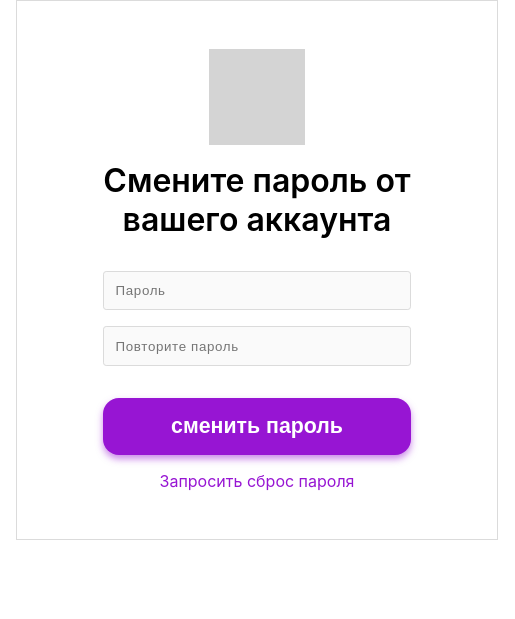
ResetPasswordComponent › reports when password too easy
This screenshot has width=515, height=619.
Type "Hunter2" into the password field with placeholder "Пароль". click: (257, 291)
box: [103,271,411,310]
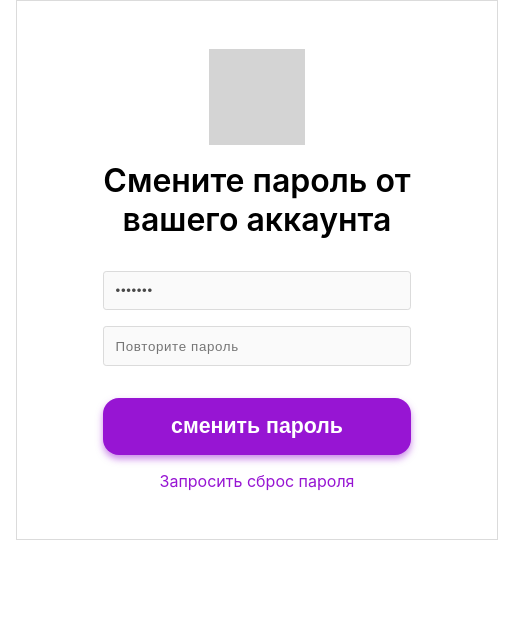
Type "Hunter2" into the password field with placeholder "Повторите пароль". click: (257, 346)
box: [103,326,411,366]
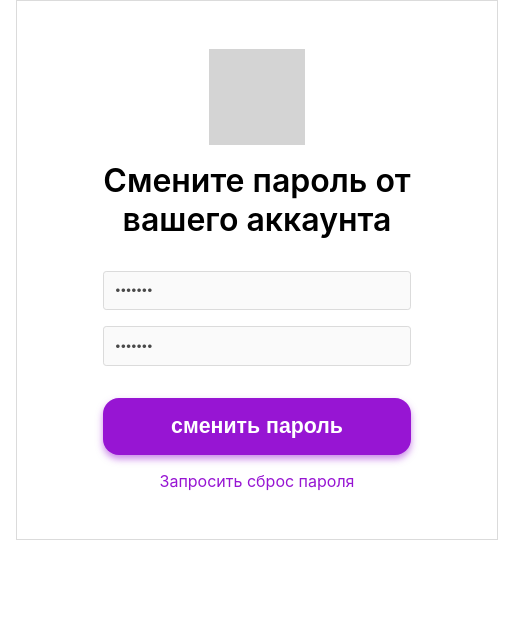
Click the button "сменить пароль". click: click(257, 426)
box: [103,398,411,455]
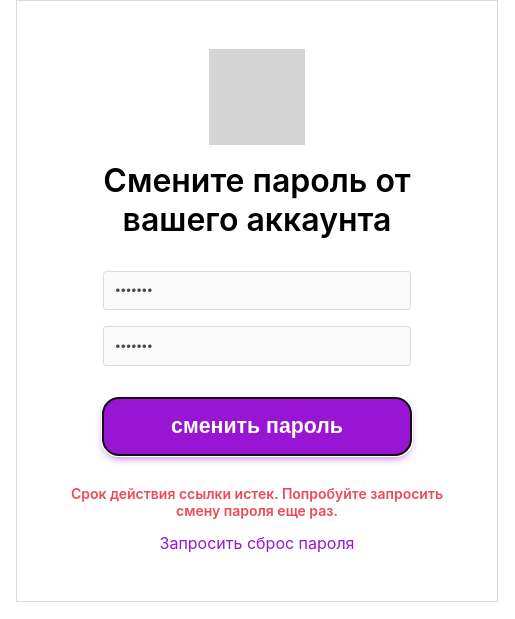
Expected: the text "Срок" is shown, [71,485,443,519]
